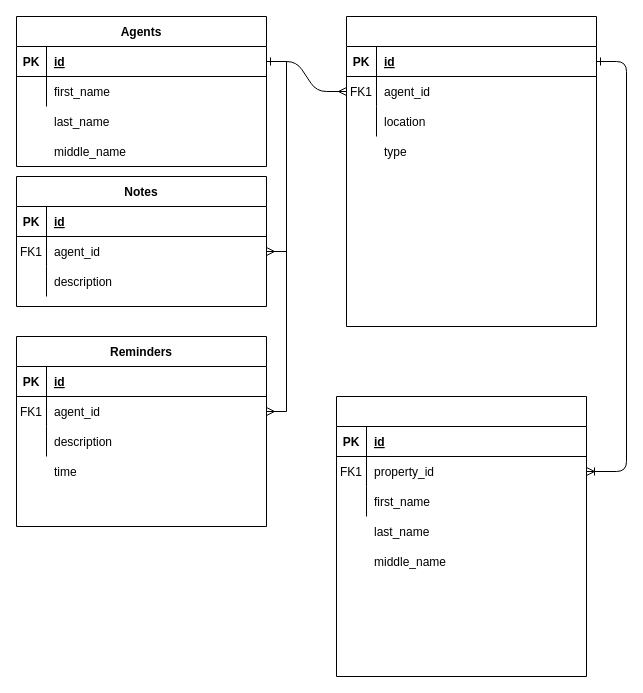
The diagram is 643 pixels wide and 693 high, and some of its shapes have lost their labels. The box of each missing label's shape, as (x1, y1, x2, y2) in pixels:
Properties: (346, 16, 596, 326)
Tenants: (336, 396, 586, 676)
